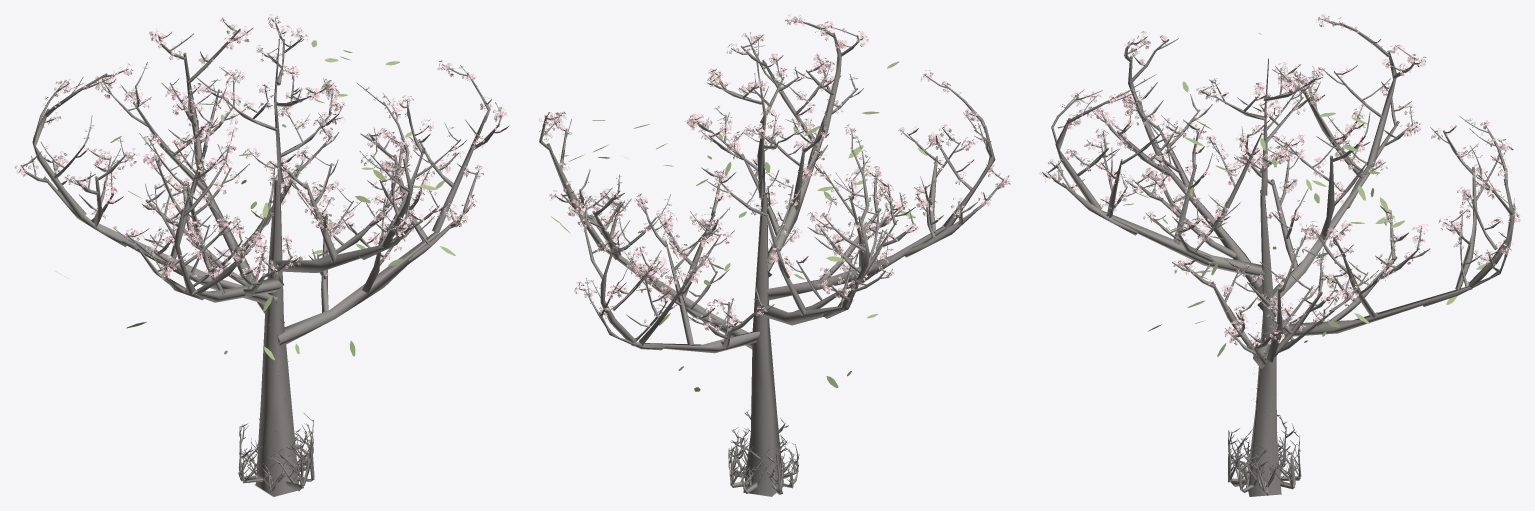
File: akebono_03.glb
The picture shows the model from 3 angles, left to right: view 1: azimuth 30°, elevation 25°; view 2: azimuth 150°, elevation 25°; view 3: azimuth 270°, elevation 25°; orthographic projection. The views are drawn at different scales.
Visible parts, largest first — view 1: Akebono_Petals_Consolidated, Akebono_Branch_Order_2, Akebono_Branch_Order_3, Akebono_Branch_Order_4, Akebono_Trunk_and_Scaffolds.001, Akebono_Trunk_and_Scaffolds, Akebono_Calyx_and_Stamens; view 2: Akebono_Petals_Consolidated, Akebono_Branch_Order_2, Akebono_Branch_Order_3, Akebono_Branch_Order_4, Akebono_Trunk_and_Scaffolds.001, Akebono_Trunk_and_Scaffolds, Akebono_Calyx_and_Stamens; view 3: Akebono_Petals_Consolidated, Akebono_Branch_Order_2, Akebono_Branch_Order_3, Akebono_Branch_Order_4, Akebono_Trunk_and_Scaffolds.001, Akebono_Trunk_and_Scaffolds, Akebono_Calyx_and_Stamens.
Part boxes in pixels (x1=…): Akebono_Petals_Consolidated: x1=14, y1=14, x2=507, y2=281; Akebono_Branch_Order_2: x1=32, y1=39, x2=487, y2=491; Akebono_Branch_Order_3: x1=20, y1=20, x2=499, y2=486; Akebono_Branch_Order_4: x1=19, y1=17, x2=509, y2=481; Akebono_Trunk_and_Scaffolds.001: x1=98, y1=38, x2=437, y2=491; Akebono_Trunk_and_Scaffolds: x1=254, y1=179, x2=298, y2=496; Akebono_Calyx_and_Stamens: x1=31, y1=19, x2=500, y2=281; Akebono_Petals_Consolidated: x1=538, y1=14, x2=1010, y2=333; Akebono_Branch_Order_2: x1=546, y1=32, x2=995, y2=492; Akebono_Branch_Order_3: x1=539, y1=21, x2=1004, y2=484; Akebono_Branch_Order_4: x1=542, y1=20, x2=1009, y2=476; Akebono_Trunk_and_Scaffolds.001: x1=604, y1=62, x2=945, y2=494; Akebono_Trunk_and_Scaffolds: x1=743, y1=193, x2=783, y2=496; Akebono_Calyx_and_Stamens: x1=542, y1=18, x2=1008, y2=329; Akebono_Petals_Consolidated: x1=1039, y1=14, x2=1520, y2=352; Akebono_Branch_Order_2: x1=1055, y1=50, x2=1513, y2=493; Akebono_Branch_Order_3: x1=1046, y1=22, x2=1514, y2=482; Akebono_Branch_Order_4: x1=1042, y1=18, x2=1515, y2=476; Akebono_Trunk_and_Scaffolds.001: x1=1100, y1=58, x2=1472, y2=495; Akebono_Trunk_and_Scaffolds: x1=1248, y1=190, x2=1281, y2=496; Akebono_Calyx_and_Stamens: x1=1041, y1=18, x2=1516, y2=353.
Size of the model in its own units: 9.72 by 9.79 by 9.87.
